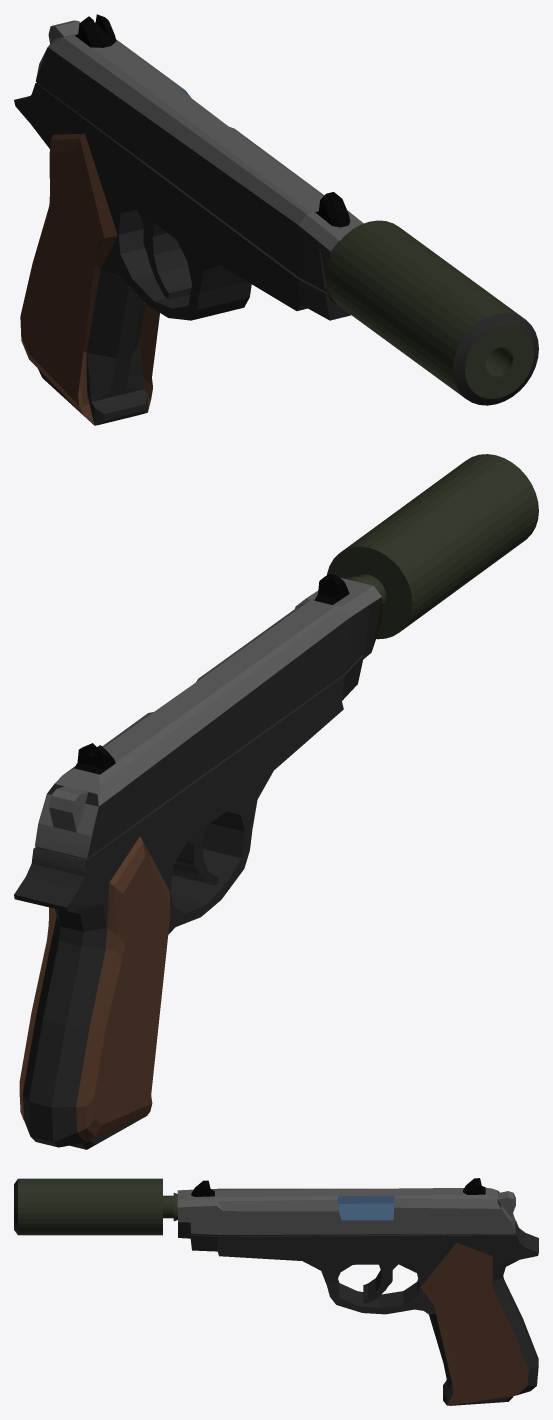
The model's file is Pushka.fbx.
3 views of the same model, one above another, from view 1: azimuth 30°, elevation 25°; view 2: azimuth 150°, elevation 25°; view 3: azimuth 270°, elevation 25° (orthographic). The views are drawn at different scales.
Visible parts, largest first — view 1: Osnova_PUSHKA; view 2: Osnova_PUSHKA; view 3: Osnova_PUSHKA.
Part boxes in pixels (bbox=[...]): Osnova_PUSHKA: bbox=[14, 14, 538, 425]; Osnova_PUSHKA: bbox=[14, 454, 538, 1149]; Osnova_PUSHKA: bbox=[14, 1178, 538, 1405].
Size of the model in its own units: 50.41 by 216 by 465.
